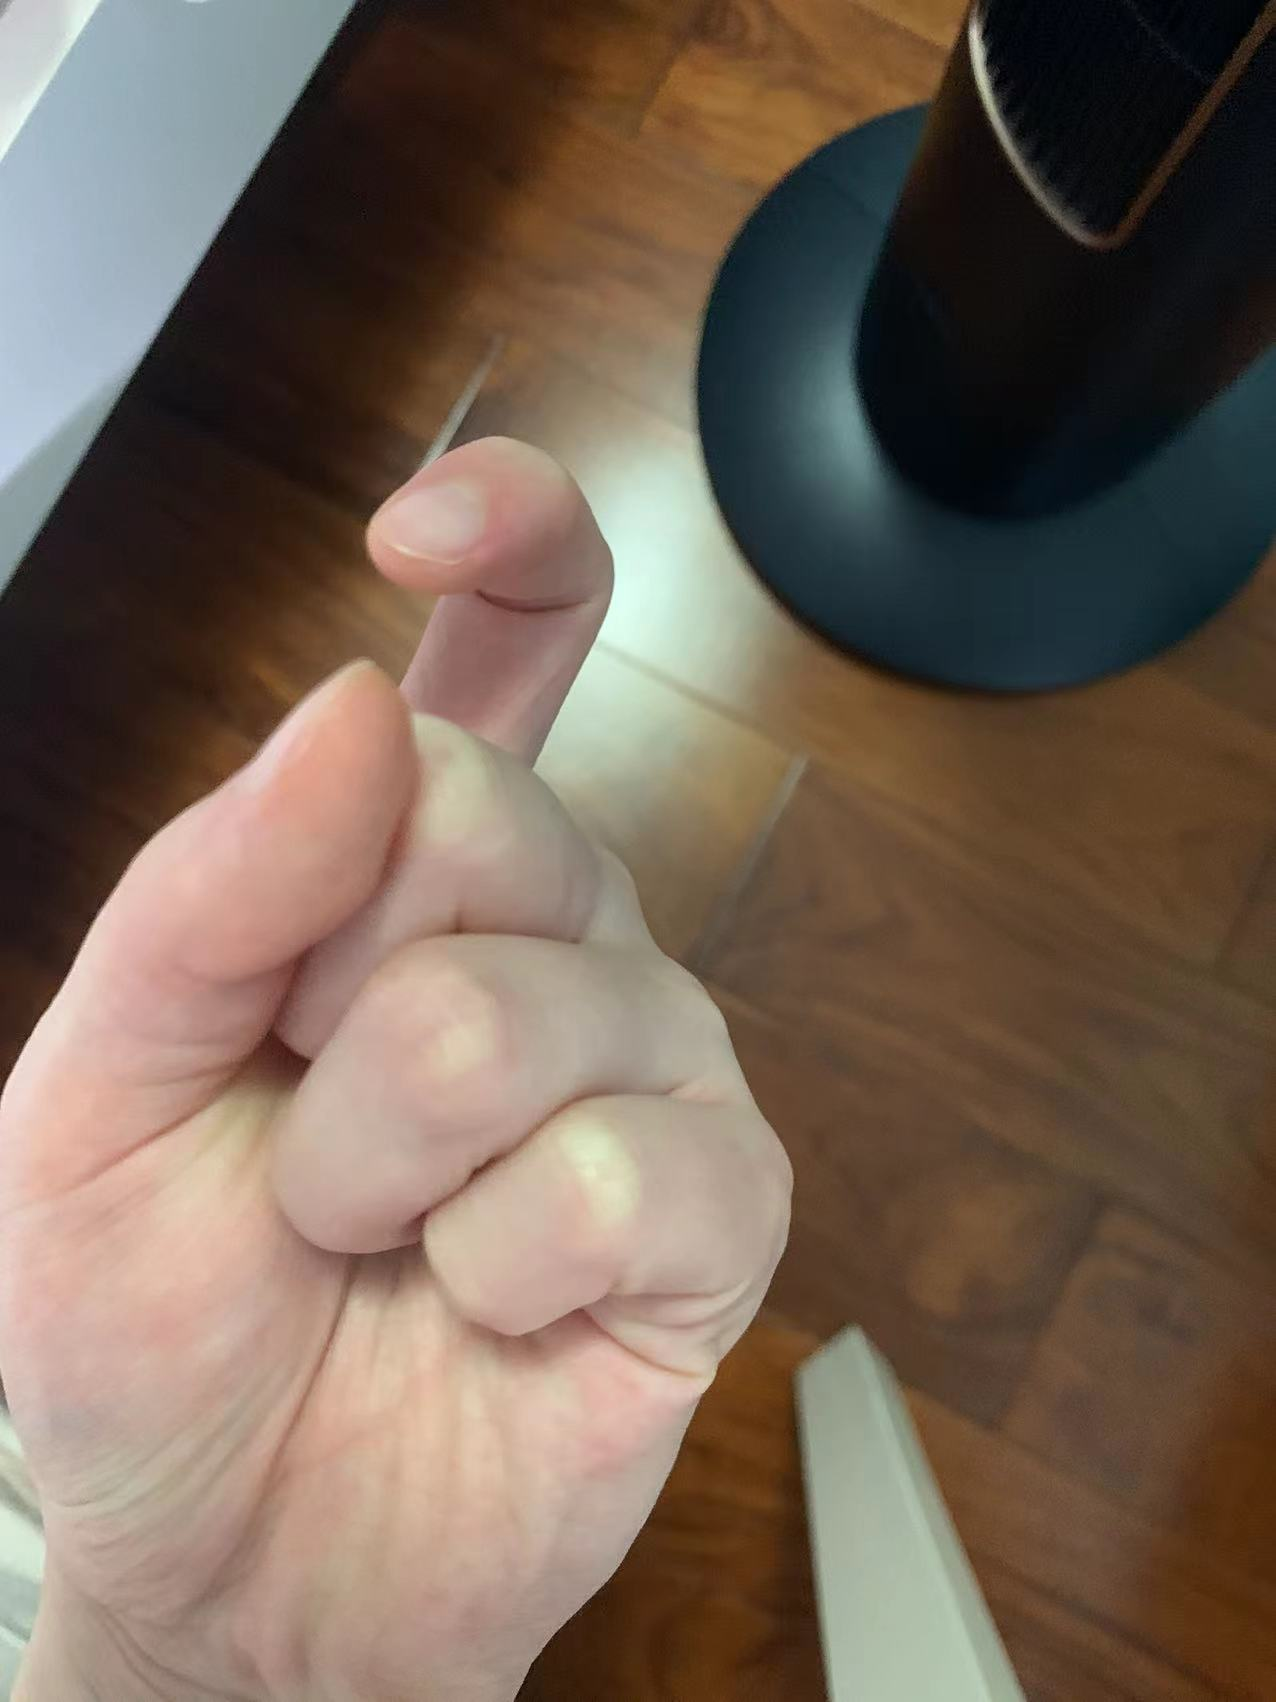anticlockwise: (7, 433, 755, 1584)
